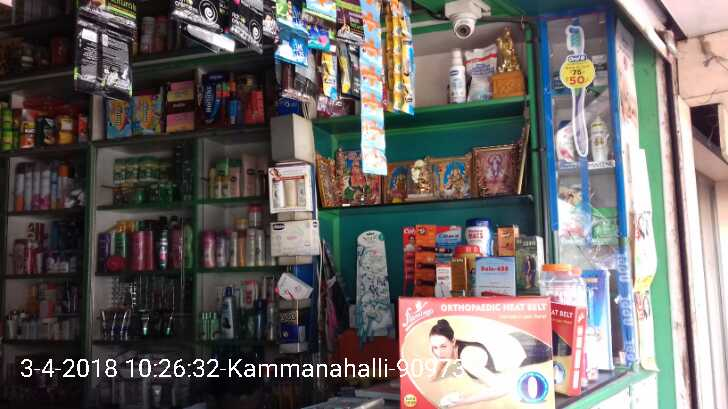vicks: (554, 72, 564, 88)
